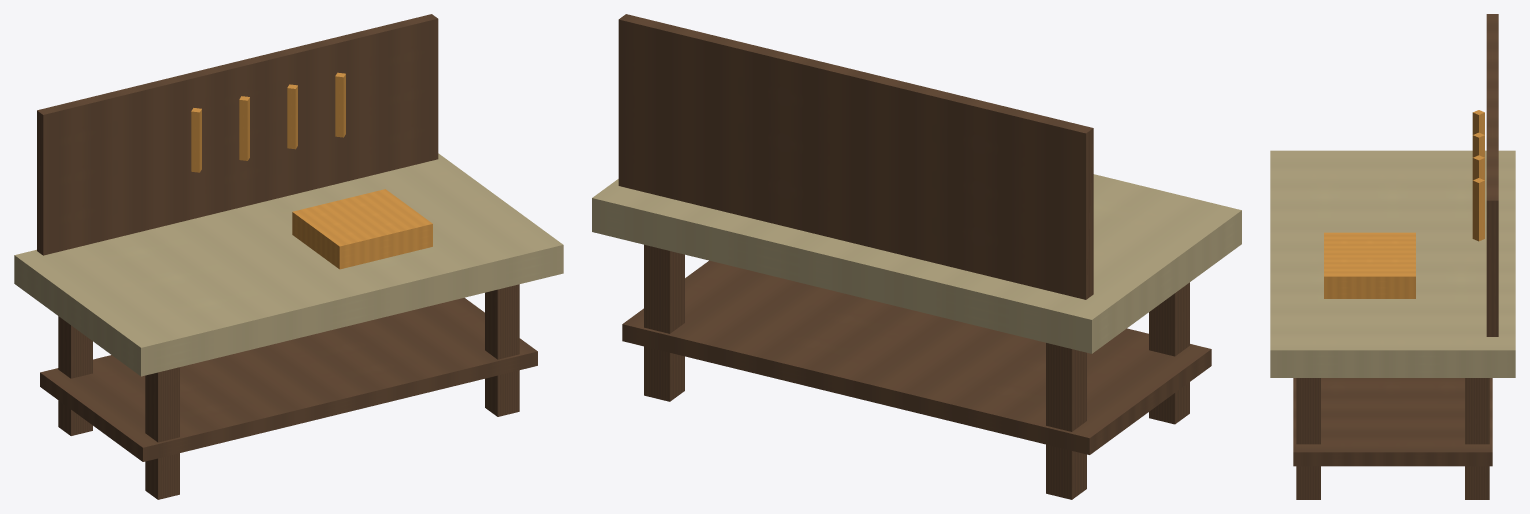
File: atlas100-s018-a06.lod2.glb
3 renders of one model, left to right at view 1: azimuth 30°, elevation 25°; view 2: azimuth 150°, elevation 25°; view 3: azimuth 270°, elevation 25°, orthographic. The views are drawn at different scales.
Visible parts, largest first — view 1: atlas100-s018-a06:part-004, atlas100-s018-a06:part-006, atlas100-s018-a06:part-005, atlas100-s018-a06:part-012, atlas100-s018-a06:part-003, atlas100-s018-a06:part-001, atlas100-s018-a06:part-000, atlas100-s018-a06:part-008, atlas100-s018-a06:part-009, atlas100-s018-a06:part-010, atlas100-s018-a06:part-011; view 2: atlas100-s018-a06:part-006, atlas100-s018-a06:part-005, atlas100-s018-a06:part-004, atlas100-s018-a06:part-000, atlas100-s018-a06:part-002, atlas100-s018-a06:part-001; view 3: atlas100-s018-a06:part-004, atlas100-s018-a06:part-005, atlas100-s018-a06:part-012, atlas100-s018-a06:part-006, atlas100-s018-a06:part-002, atlas100-s018-a06:part-003, atlas100-s018-a06:part-011, atlas100-s018-a06:part-009, atlas100-s018-a06:part-010, atlas100-s018-a06:part-008.
Part boxes in pixels (box(x1,y1,x2,y2)): atlas100-s018-a06:part-004: box(14, 153, 563, 376); atlas100-s018-a06:part-006: box(37, 14, 438, 255); atlas100-s018-a06:part-005: box(40, 297, 537, 461); atlas100-s018-a06:part-012: box(292, 189, 432, 269); atlas100-s018-a06:part-003: box(485, 284, 519, 416); atlas100-s018-a06:part-001: box(145, 367, 179, 499); atlas100-s018-a06:part-000: box(58, 316, 92, 435); atlas100-s018-a06:part-008: box(191, 108, 201, 172); atlas100-s018-a06:part-009: box(239, 96, 249, 160); atlas100-s018-a06:part-010: box(287, 84, 297, 149); atlas100-s018-a06:part-011: box(335, 72, 345, 137); atlas100-s018-a06:part-006: box(618, 14, 1093, 299); atlas100-s018-a06:part-005: box(622, 260, 1211, 454); atlas100-s018-a06:part-004: box(592, 174, 1241, 353); atlas100-s018-a06:part-000: box(1046, 343, 1086, 499); atlas100-s018-a06:part-002: box(644, 244, 684, 401); atlas100-s018-a06:part-001: box(1149, 282, 1189, 424); atlas100-s018-a06:part-004: box(1270, 150, 1515, 377); atlas100-s018-a06:part-005: box(1293, 378, 1492, 466); atlas100-s018-a06:part-012: box(1324, 232, 1415, 298); atlas100-s018-a06:part-006: box(1486, 14, 1498, 336); atlas100-s018-a06:part-002: box(1465, 378, 1489, 499); atlas100-s018-a06:part-003: box(1296, 378, 1320, 499); atlas100-s018-a06:part-011: box(1472, 178, 1484, 241); atlas100-s018-a06:part-009: box(1472, 132, 1484, 157); atlas100-s018-a06:part-010: box(1472, 155, 1484, 180); atlas100-s018-a06:part-008: box(1472, 110, 1484, 134).
Bounding box in the file's own units: 3.08 × 2.21 × 1.6.
Materials: 3 (3 with a texture image).
